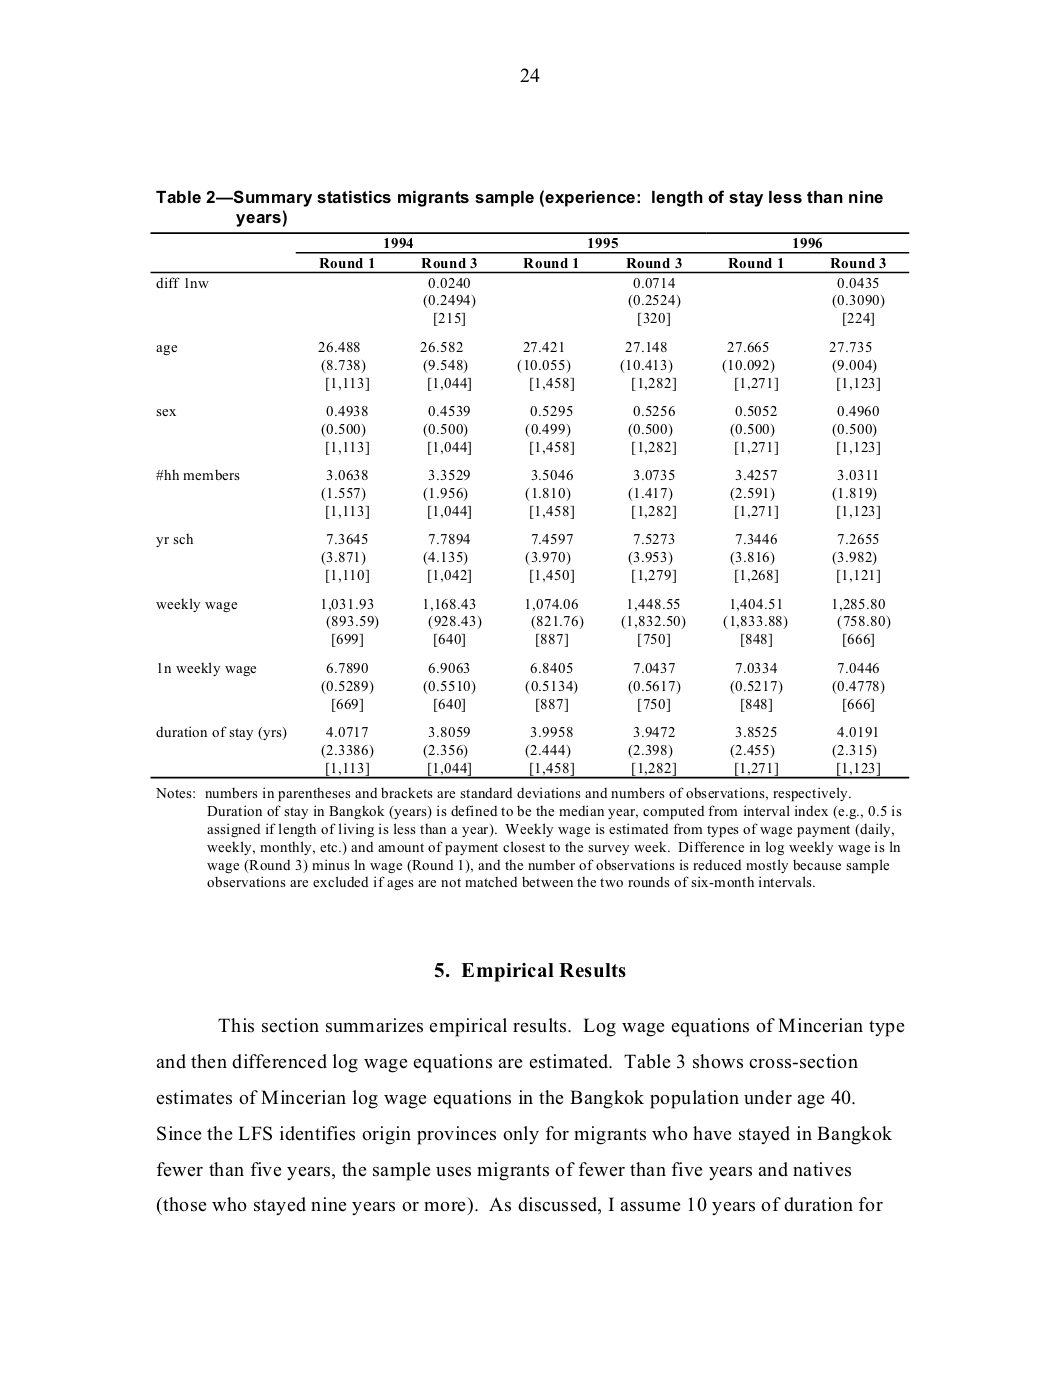Table: (150, 232, 909, 778)
